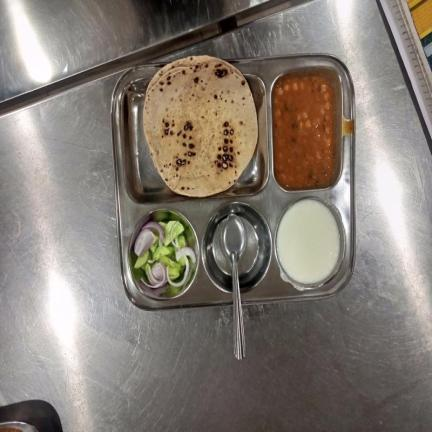Chhole: (272, 74, 336, 188)
Dahi: (278, 199, 340, 283)
Plate: (111, 52, 355, 311)
Roti: (144, 55, 259, 198)
Salad: (134, 221, 196, 290)
